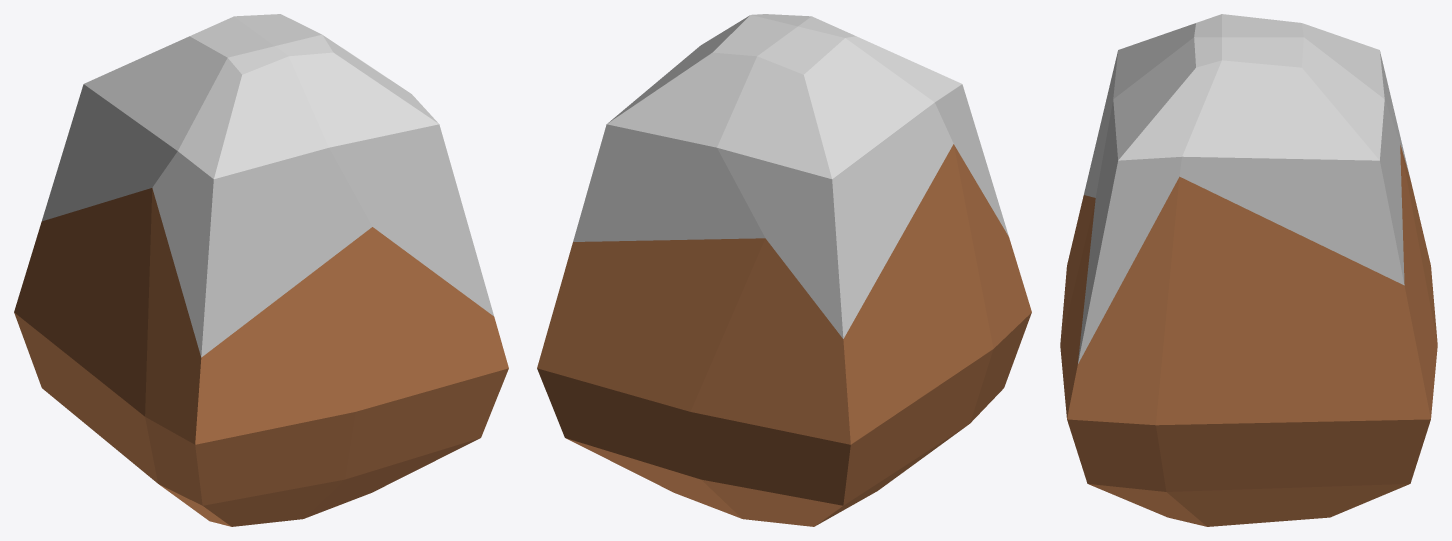
Rendered from boiledEggHalfOpen.fbx.
The picture shows the model from 3 angles, left to right: view 1: azimuth 30°, elevation 25°; view 2: azimuth 150°, elevation 25°; view 3: azimuth 270°, elevation 25°; orthographic projection.
Parts seen in each view (by area): view 1: boiledEggHalfOpen; view 2: boiledEggHalfOpen; view 3: boiledEggHalfOpen.
Part boxes in pixels (x1,y1,x2,y2): boiledEggHalfOpen: (14, 14, 508, 526); boiledEggHalfOpen: (537, 14, 1031, 526); boiledEggHalfOpen: (1060, 14, 1437, 526).
Bounding box in the file's own units: 7.72 × 10.25 × 7.72.
Materials: 1 (1 with a texture image).
